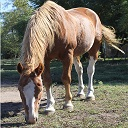caballo: (17, 0, 114, 125)
